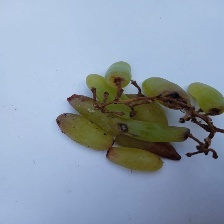grapes: (12, 26, 176, 224)
